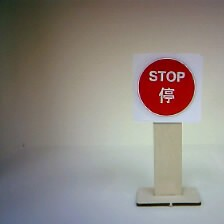stop: (129, 52, 201, 124)
